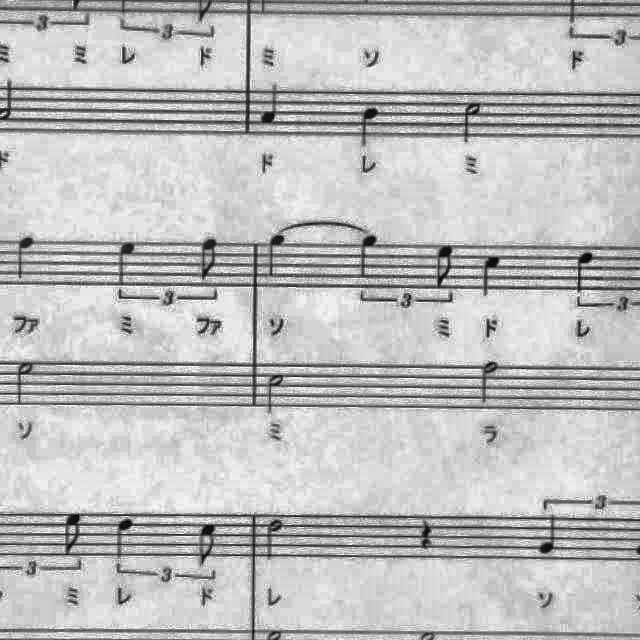Eighth-note: (430, 240, 462, 292), (194, 234, 226, 286), (59, 507, 90, 559), (194, 518, 224, 570)
Half-note: (457, 98, 488, 150), (9, 356, 39, 409), (476, 354, 504, 410), (262, 367, 292, 417), (354, 232, 382, 284), (262, 513, 290, 563)
Quarter-note: (111, 236, 145, 296), (476, 249, 509, 303), (255, 78, 289, 130), (568, 246, 600, 298), (262, 230, 294, 282), (12, 230, 40, 286), (109, 512, 139, 564), (354, 101, 384, 151), (535, 510, 565, 558)
Quarter-rest: (413, 514, 442, 558)
